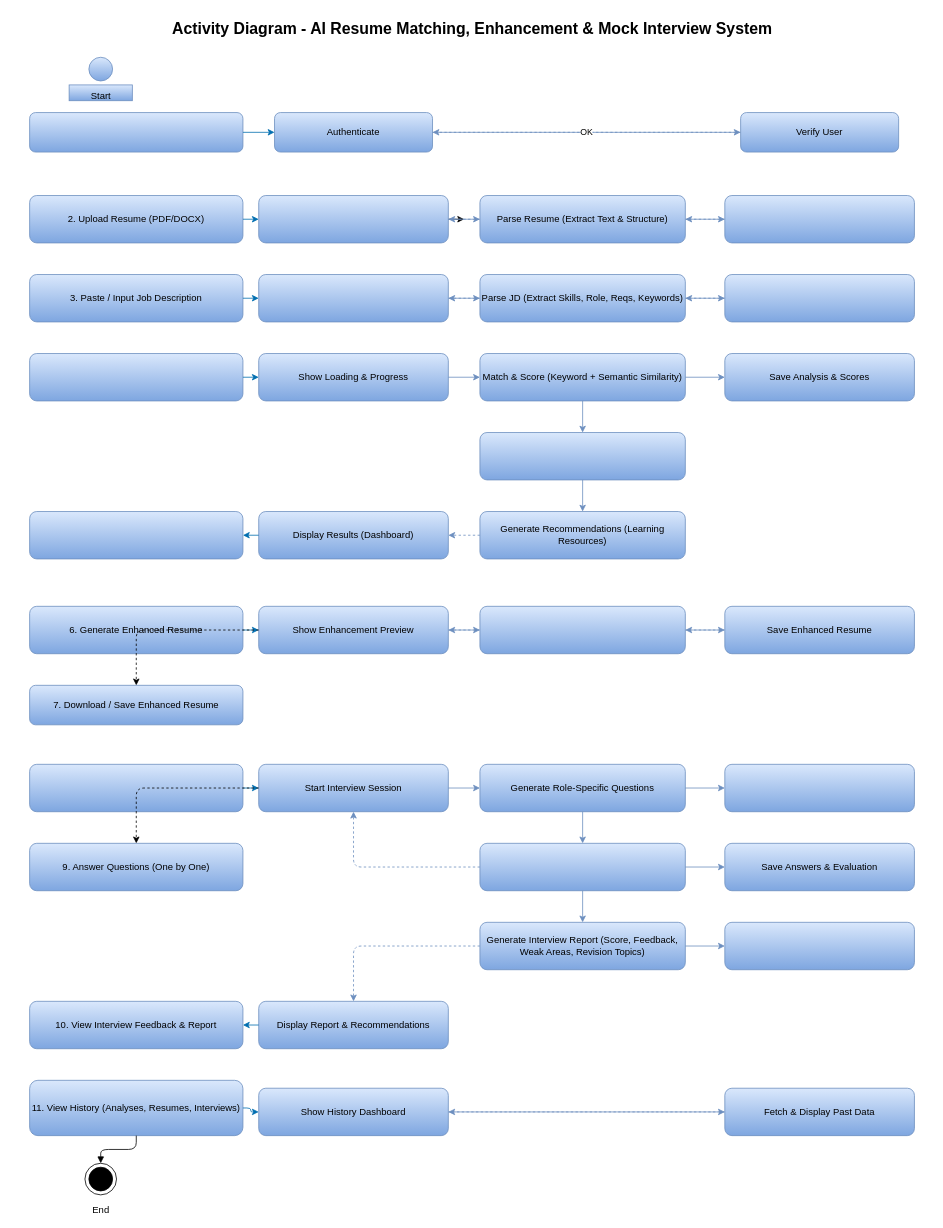
Image size: 943x1228. Some labels were removed from this diagram. Each missing label, with the centre of its shape:
"1. Sign Up / Login" belongs at (x=136, y=132).
"4. Click 'Analyze Match'" belongs at (x=136, y=377).
"5. View Match Score, Breakdown & Gap Analysis" belongs at (x=136, y=535).
"8. Start Mock Interview" belongs at (x=136, y=788).
"Enhance Resume Content (Refine Bullets, Keywords, ATS Format)" belongs at (x=582, y=630).
"Evaluate Answers (Technical + Communication)" belongs at (x=582, y=867).
"Extract & Preview JD Details" belongs at (x=353, y=298).
"Extract & Preview Resume Data" belongs at (x=353, y=219).
"Generate Gap Analysis (Improve vs Learn/Add)" belongs at (x=582, y=456).
"Save Interview Report" belongs at (x=819, y=946).
"Save Interview Session" belongs at (x=819, y=788).
"Store JD Data" belongs at (x=819, y=298).
"Store Parsed Resume Data" belongs at (x=819, y=219).
